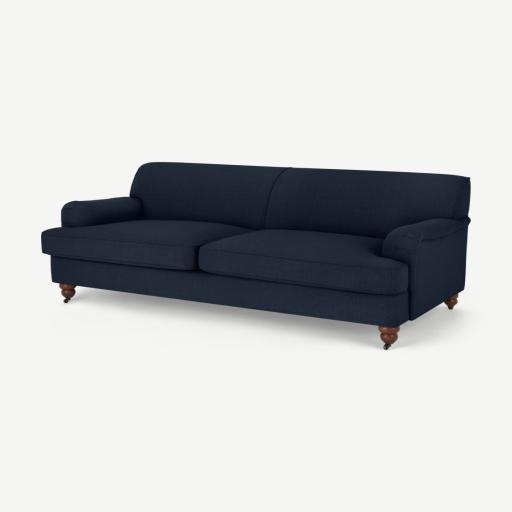back_cushion: (130, 162, 470, 237)
base: (51, 257, 408, 327)
left_arm: (382, 218, 469, 319)
legs: (379, 326, 399, 349), (60, 284, 75, 303), (445, 294, 458, 310)
right_arm: (61, 197, 141, 226)
seat_cushion: (43, 220, 407, 294)
two-seater: (0, 0, 511, 512)
